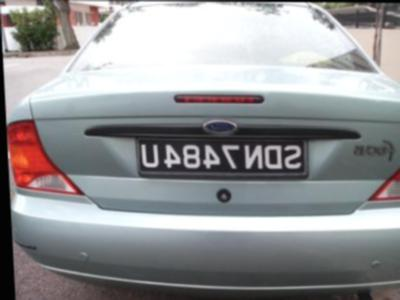License_Plate: (138, 136, 309, 177)
